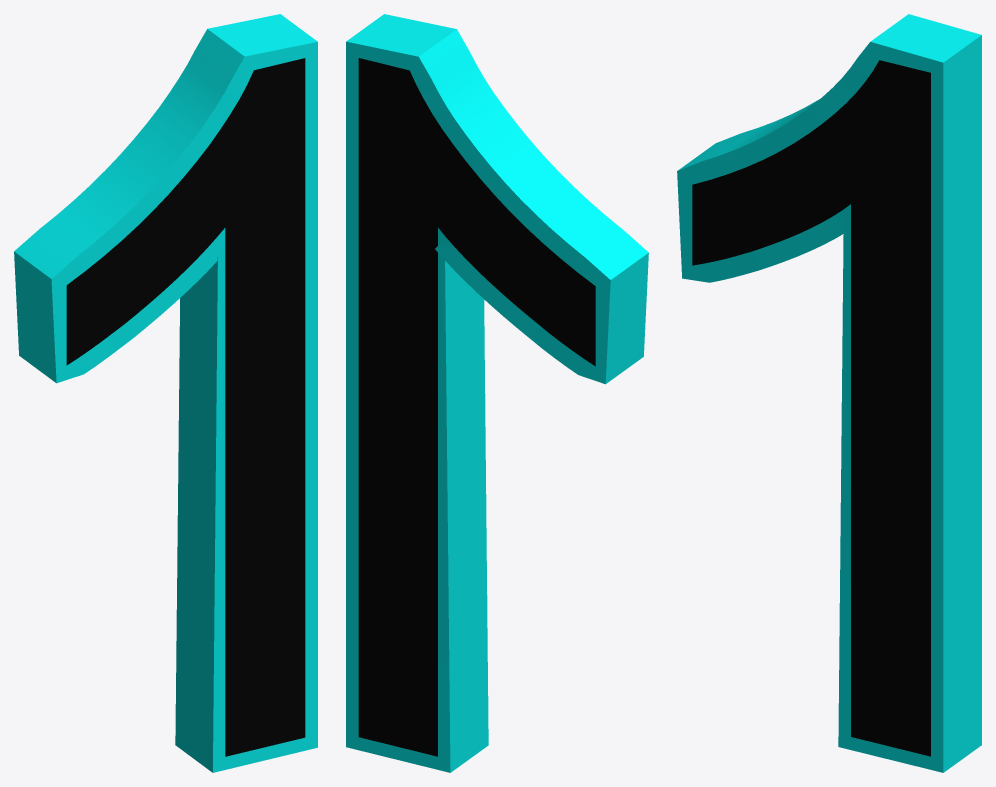
The picture shows the model from 3 angles, left to right: view 1: azimuth 30°, elevation 25°; view 2: azimuth 150°, elevation 25°; view 3: azimuth 330°, elevation 25°; orthographic projection.
Parts seen in each view (by area): view 1: Text001, Object001; view 2: Text001, Object001; view 3: Text001, Object001.
Part boxes in pixels (box(x1,y1,x2,y2)): Text001: box(66, 58, 305, 756); Object001: box(14, 14, 317, 772); Text001: box(358, 58, 595, 756); Object001: box(346, 14, 648, 772); Text001: box(692, 60, 930, 756); Object001: box(677, 14, 981, 772).
Size of the model in its own units: 26.38 by 67.16 by 6.65.
